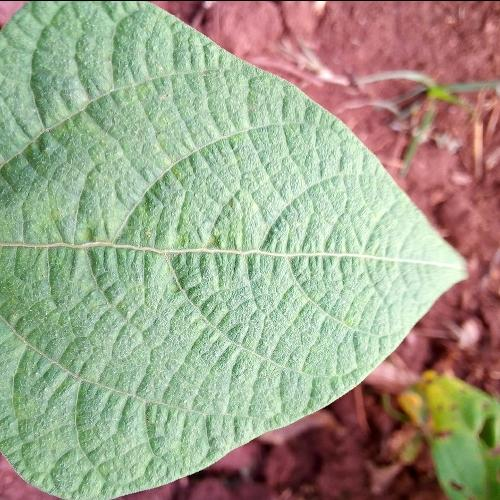sehat: (2, 108, 346, 446)
